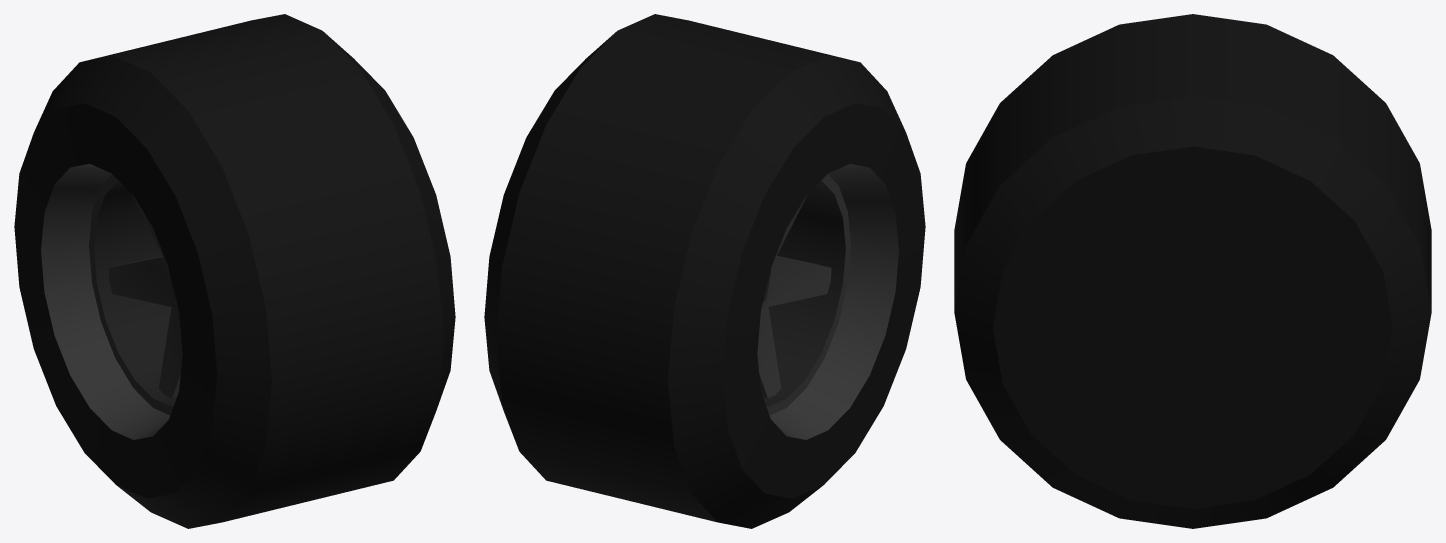
Rendered from formula-wheel-1.glb.
The picture shows the model from 3 angles, left to right: view 1: azimuth 30°, elevation 25°; view 2: azimuth 150°, elevation 25°; view 3: azimuth 270°, elevation 25°; orthographic projection.
Visible parts, largest first — view 1: model; view 2: model; view 3: model.
Boxes of the visible parts, left/top/right/bottom form: model: left=14, top=14, right=455, bottom=528; model: left=484, top=14, right=925, bottom=528; model: left=954, top=14, right=1431, bottom=528.
Bounding box in the file's own units: 0.4246 × 0.7369 × 0.7369.
Materials: 1 (1 with a texture image).
